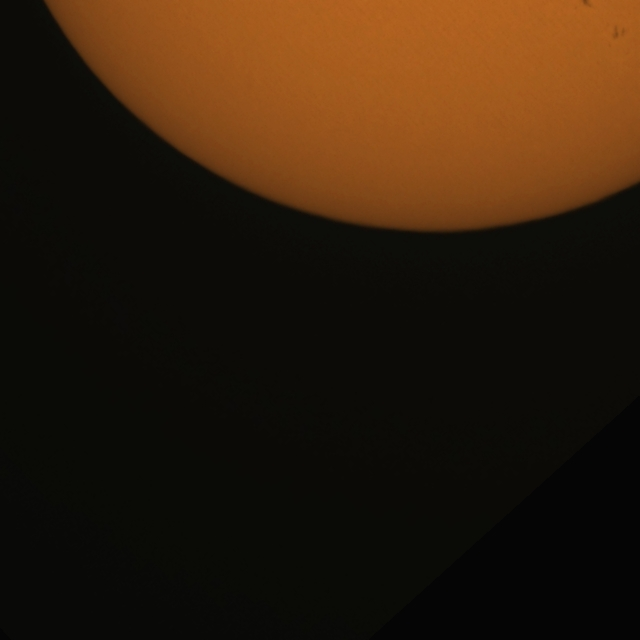sunspot: (607, 23, 627, 46), (580, 0, 593, 9)
